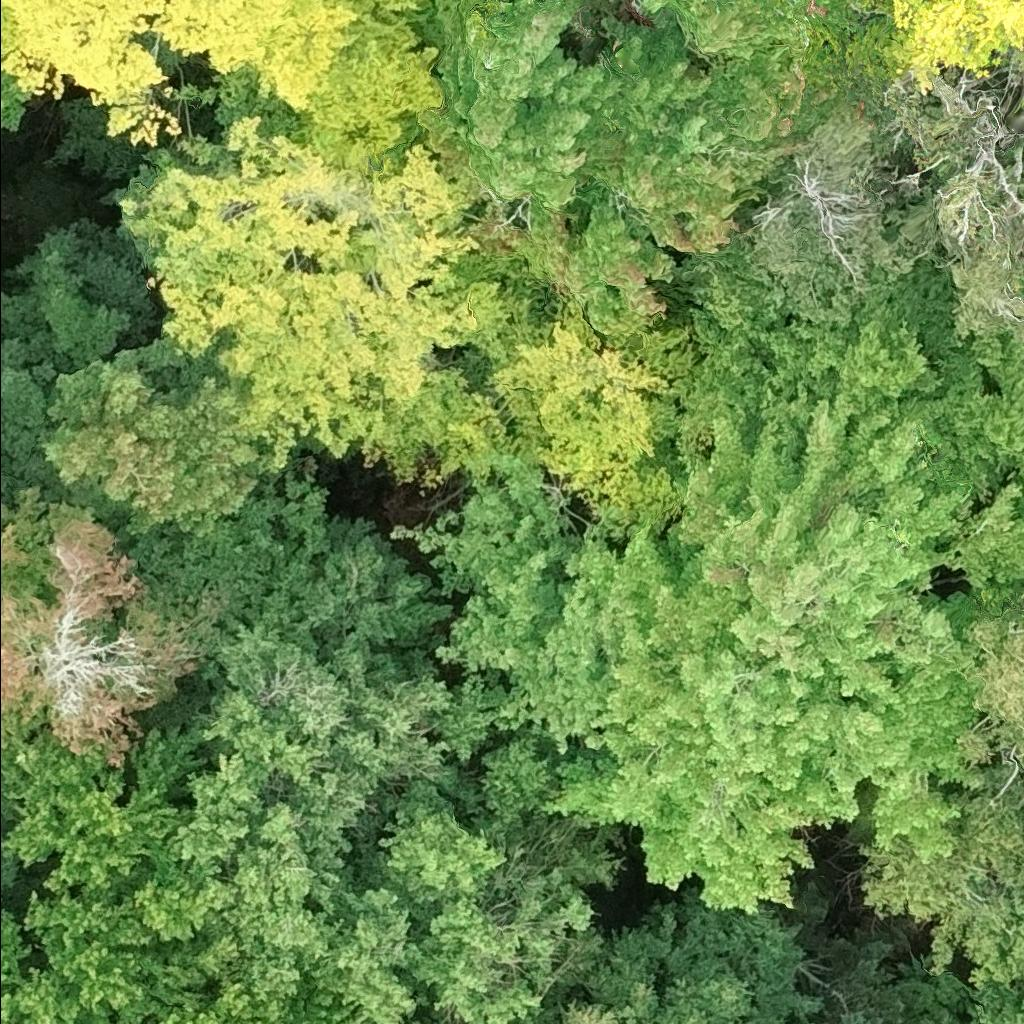crown: (540, 377, 1023, 913), (174, 514, 632, 1023), (118, 114, 558, 471), (425, 0, 806, 349), (0, 720, 358, 1023), (0, 0, 466, 171), (440, 297, 715, 546), (392, 440, 612, 751), (860, 612, 1023, 989), (0, 483, 200, 766), (37, 326, 282, 540), (583, 903, 830, 1023), (934, 172, 1023, 339), (876, 0, 1023, 96), (640, 0, 877, 59), (975, 932, 1023, 1023), (0, 68, 33, 137), (552, 994, 626, 1023), (0, 851, 18, 906), (0, 11, 5, 34)
